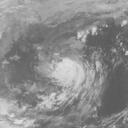cyclone: (42, 48, 91, 91)
